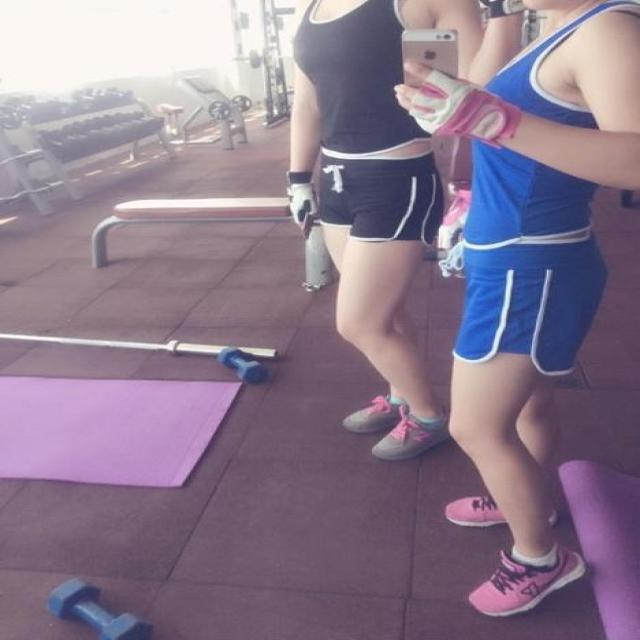shorts: (453, 231, 607, 377), (317, 149, 445, 248)
vest: (463, 0, 639, 250), (294, 0, 434, 157)
